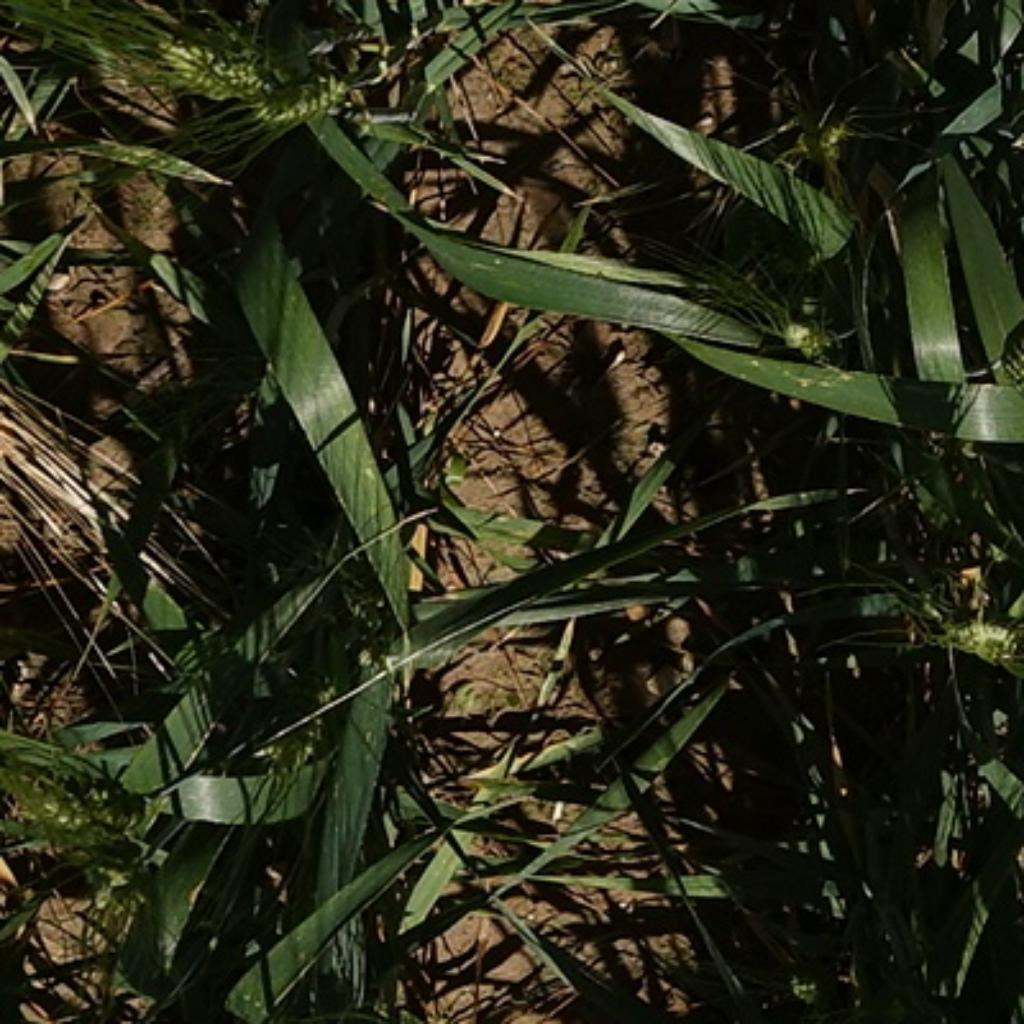0-0: (2, 744, 145, 847), (140, 10, 279, 104), (250, 56, 381, 143), (917, 611, 1024, 693), (255, 708, 324, 813), (778, 79, 860, 163), (773, 314, 853, 378), (1018, 855, 1024, 1003)
